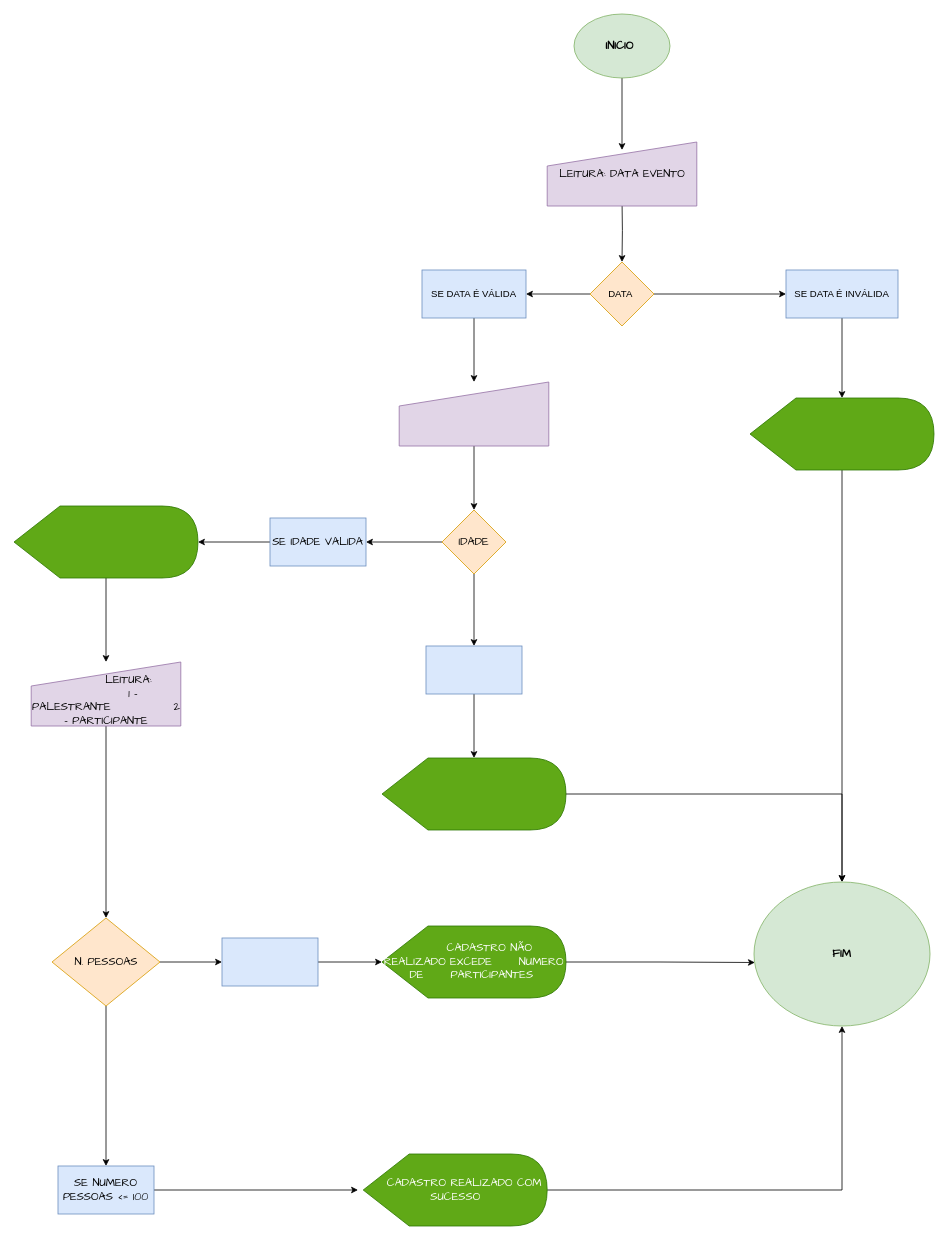
The diagram is 948 pixels wide and 1240 high, and some of its shapes have lost their labels. Each missing label, with the box of its shape:
CADASTRO NÃO PERMITIDO DATA EVENTO INVÁLIDO: (749, 397, 934, 470)
CADASTRO NÃO PERMITIDO IDADE INVÁLIDA: (381, 757, 566, 830)
LEITURA: DATA NASCIMENTO: (398, 381, 549, 446)
SE IDADE INVÁLIDA: (425, 645, 522, 694)
SE NUMERO PESSOAS > 100: (221, 937, 318, 986)
VOCÊ É PALESTRANTE OU PARTICIPANTE: (13, 505, 198, 578)
